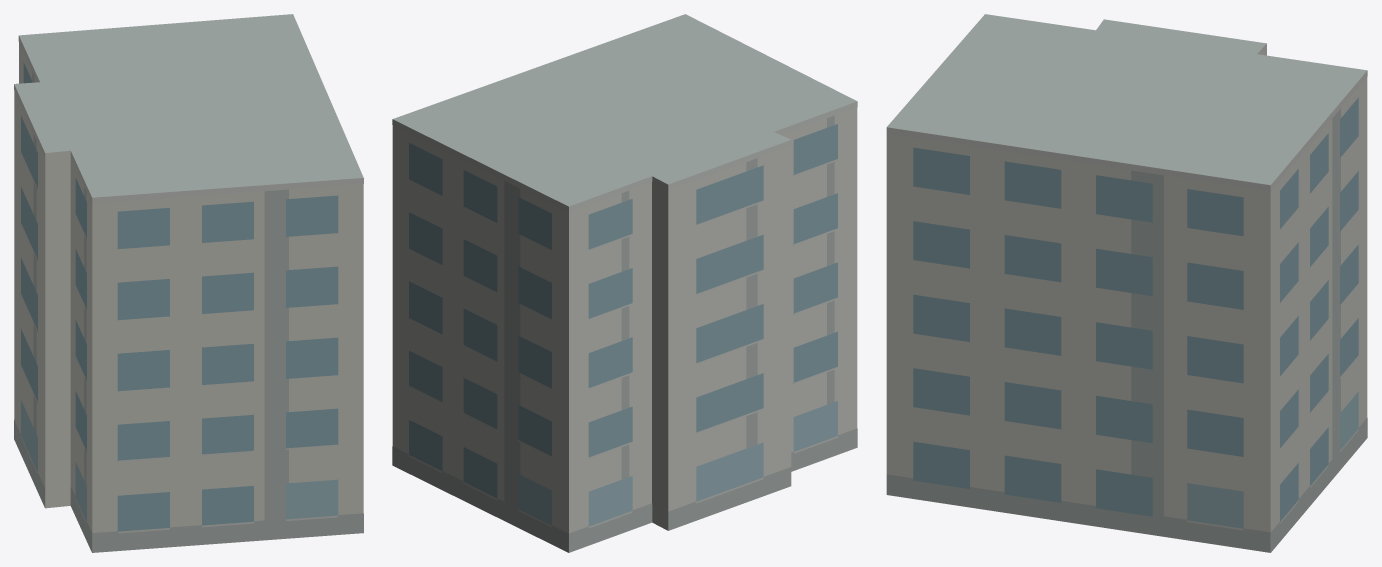
The model's file is survey-upis-32946420.glb.
3 renders of one model, left to right at view 1: azimuth 30°, elevation 25°; view 2: azimuth 150°, elevation 25°; view 3: azimuth 270°, elevation 25°, orthographic. The views are drawn at different scales.
Visible parts, largest first — view 1: survey-upis-32946420.tmp; view 2: survey-upis-32946420.tmp; view 3: survey-upis-32946420.tmp.
Boxes of the visible parts, x1,y1,x2,y2 form: survey-upis-32946420.tmp: (14, 14, 363, 552); survey-upis-32946420.tmp: (392, 14, 857, 552); survey-upis-32946420.tmp: (886, 14, 1367, 552).
Size of the model in its own units: 14.09 by 14.1 by 16.72.
